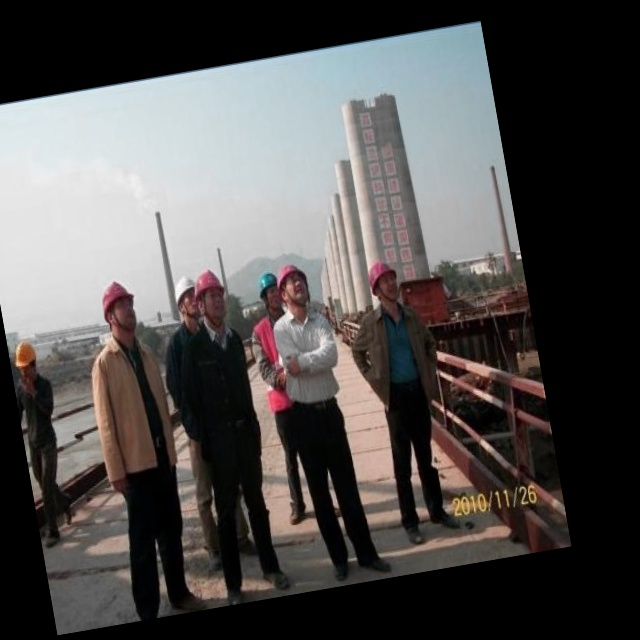Con_Casco: (100, 278, 139, 338), (195, 271, 233, 326)
Sin_Chaleco: (275, 309, 343, 402)
